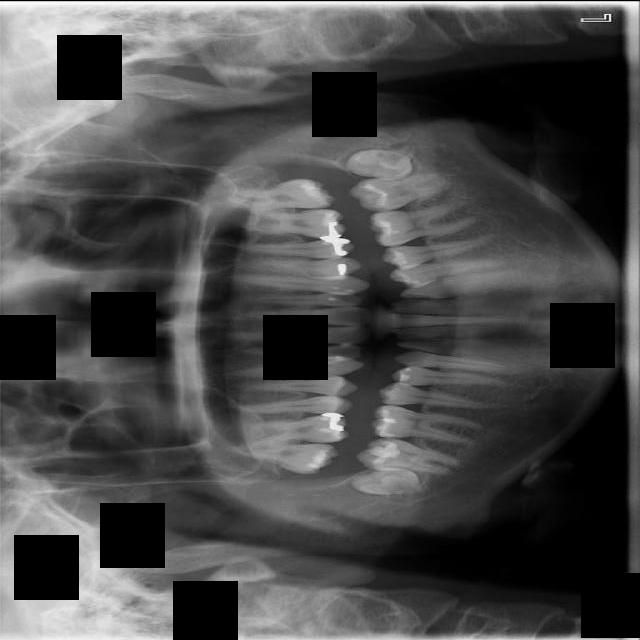52: (349, 170, 412, 218), (366, 200, 422, 252), (354, 434, 419, 473), (369, 402, 423, 441), (277, 176, 336, 209), (302, 408, 351, 446), (282, 442, 340, 474), (388, 260, 443, 290), (300, 208, 348, 241), (316, 271, 371, 297), (308, 352, 365, 377), (314, 254, 364, 282), (310, 234, 357, 261), (390, 362, 436, 389), (383, 245, 429, 269), (316, 291, 360, 306)
BioHorizons Implant: (195, 176, 335, 217)
Biomet 3i Implant: (347, 130, 419, 184)
Blue Sky Bio Implant: (348, 169, 453, 215)
Caries: (222, 436, 340, 476)
Implant: (355, 434, 464, 475)
Keystone Dental Implant: (351, 462, 431, 503)
